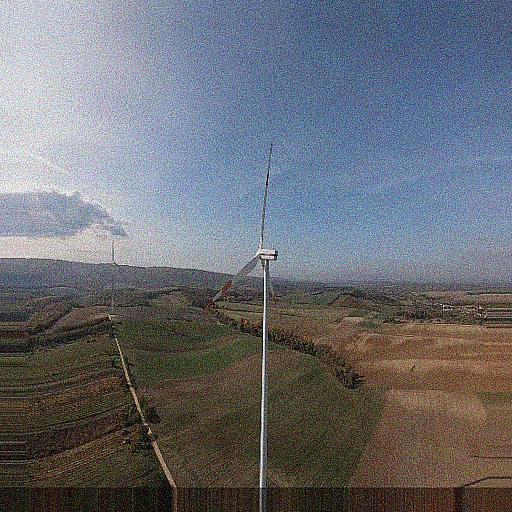wind turbine: (210, 139, 278, 487), (97, 238, 129, 315)
